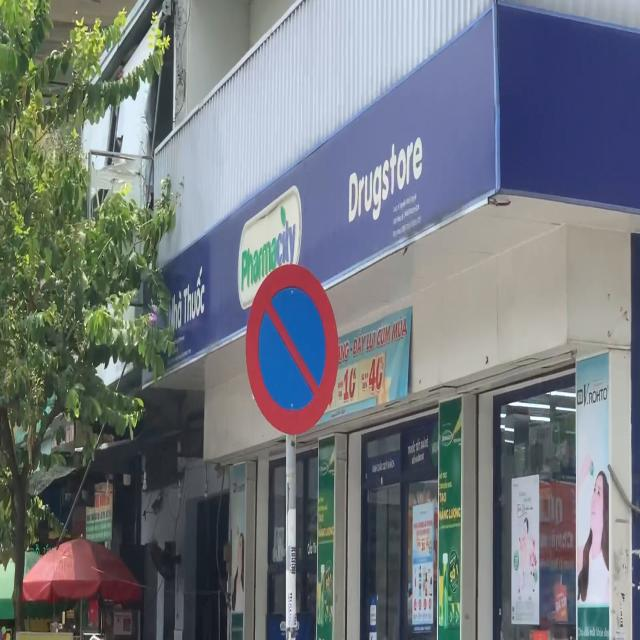Cam do: (243, 262, 343, 433)
